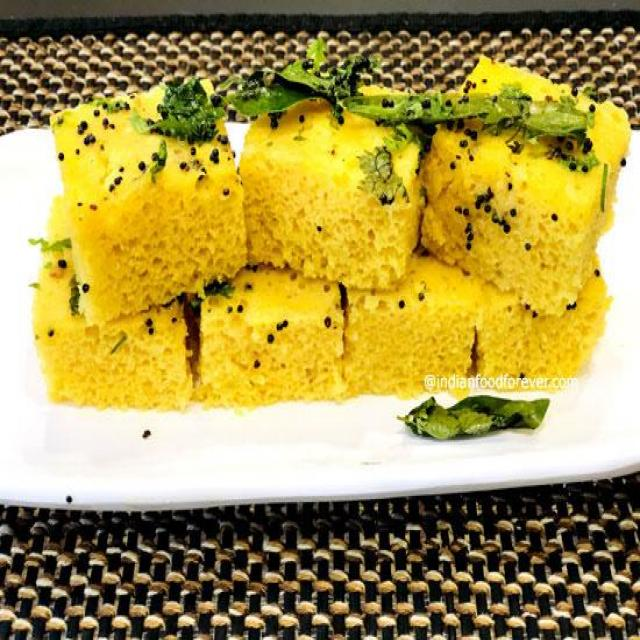dhokla: (38, 66, 624, 399)
